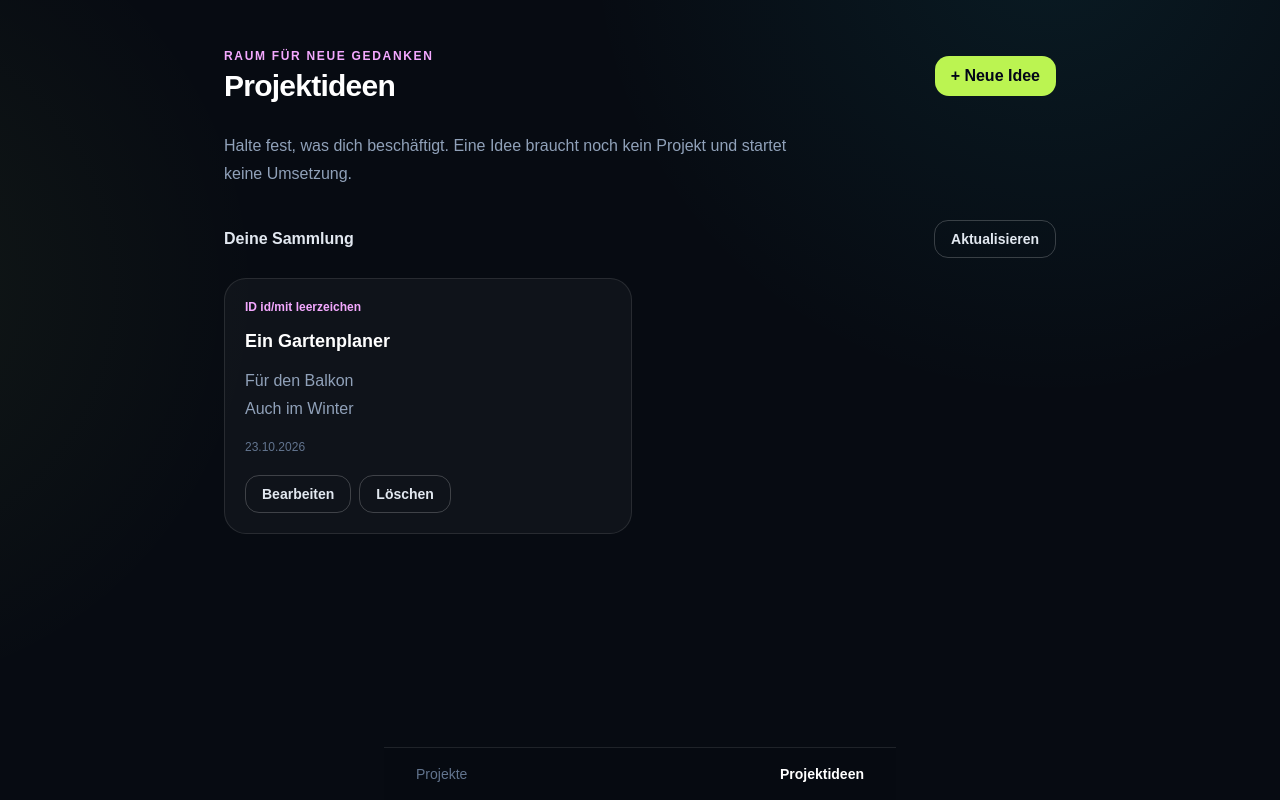
Scenario: Projektideen › überschreibt eine bestehende Idee mit derselben ID und erwarteter Revision
The image size is (1280, 800).
Click the button "Bearbeiten": [298, 494] box [245, 475, 351, 513]
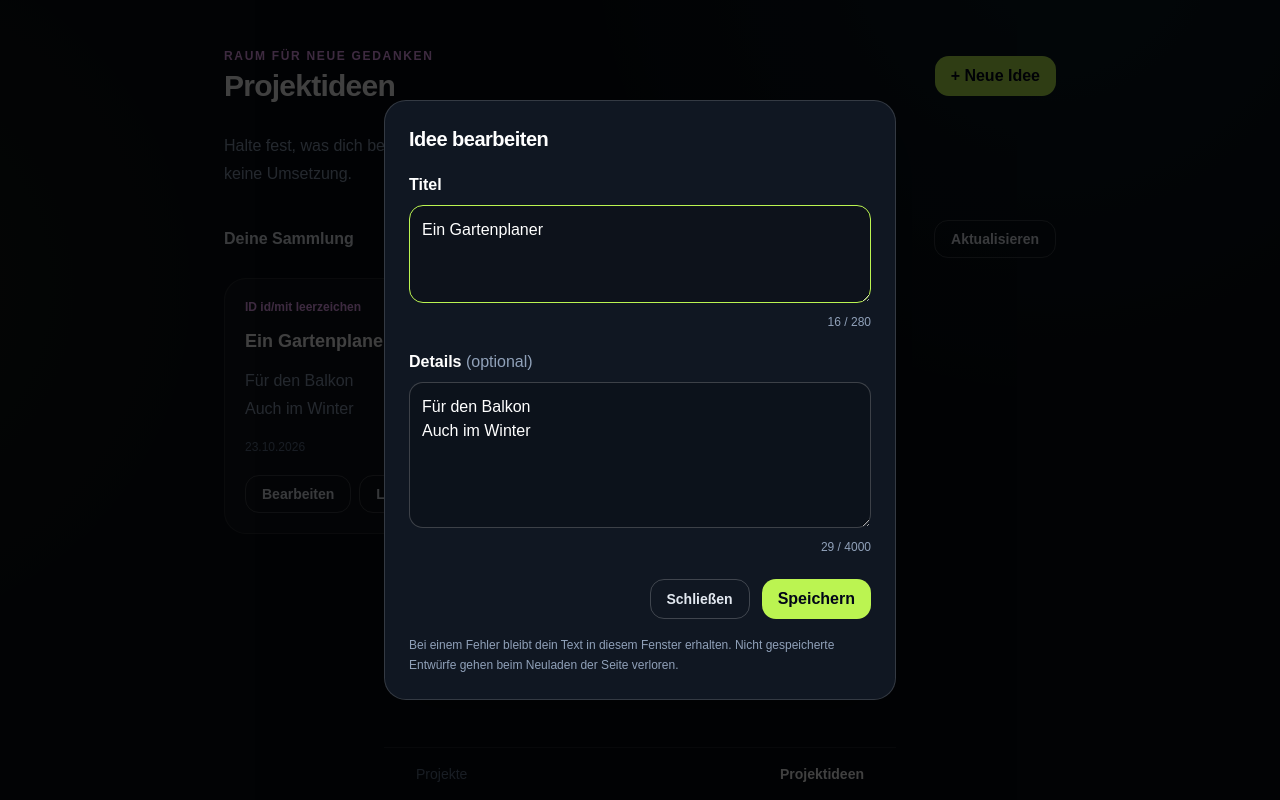
Expected: the text box labelled "Titel" holds "Ein Gartenplaner"
Replace the text in the text box labelled "Titel" with "Der neue Titel": [640, 254] box [409, 205, 871, 303]
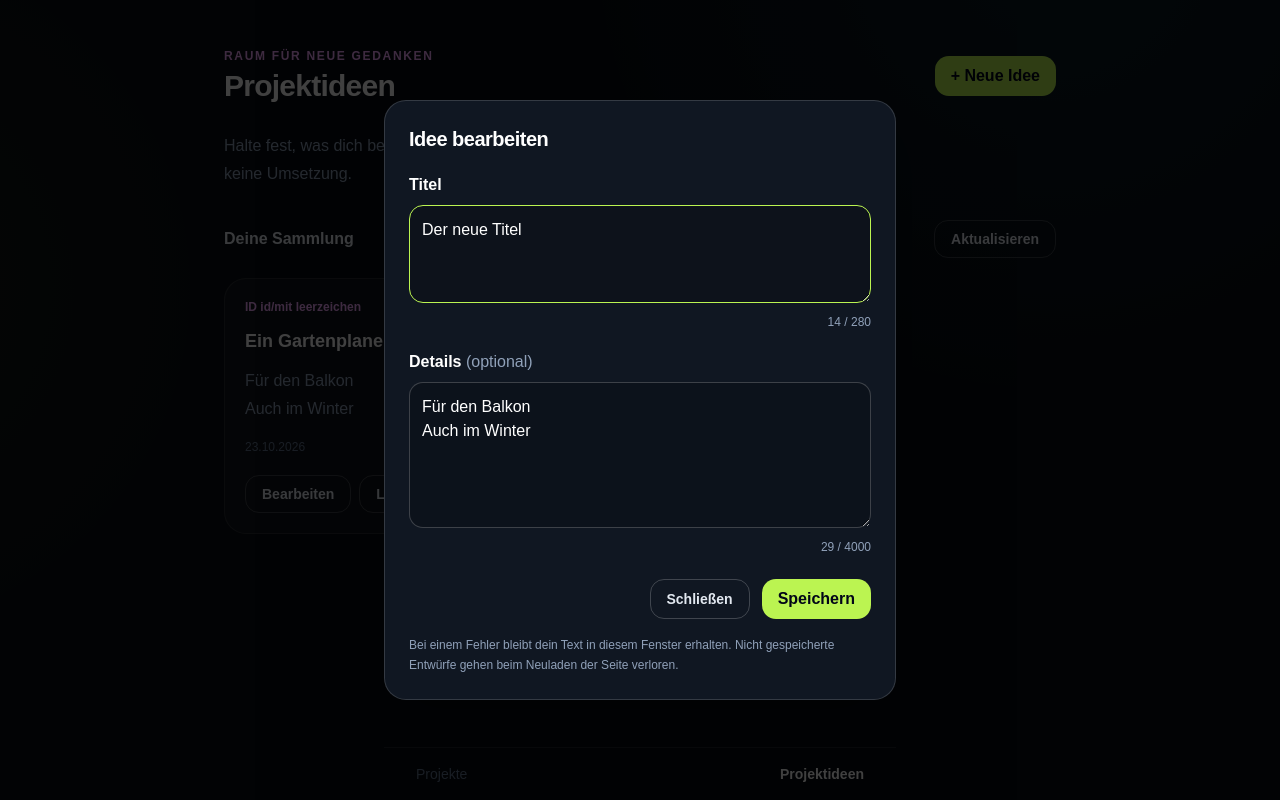
Click the button "Speichern": [816, 599] box [762, 579, 871, 619]
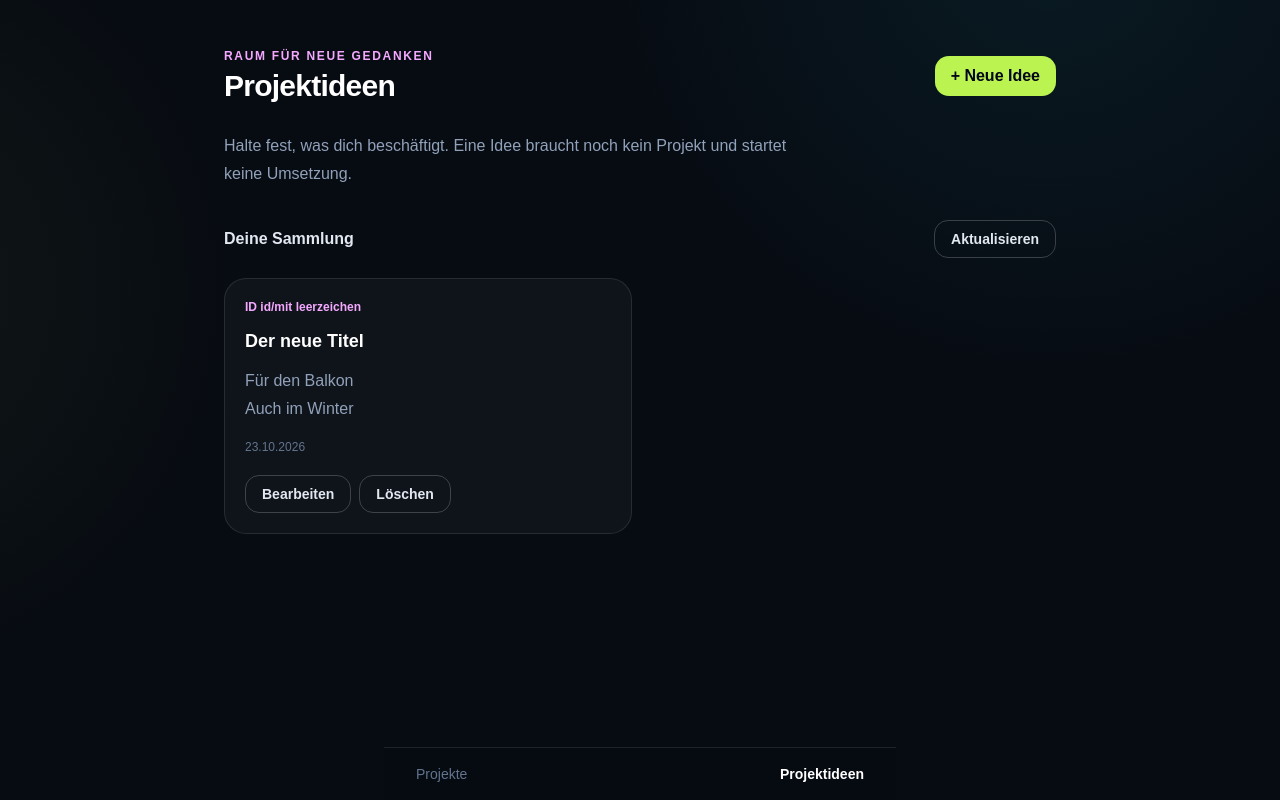
Expected: the heading "Der neue Titel" is shown, [245, 331, 364, 351]
